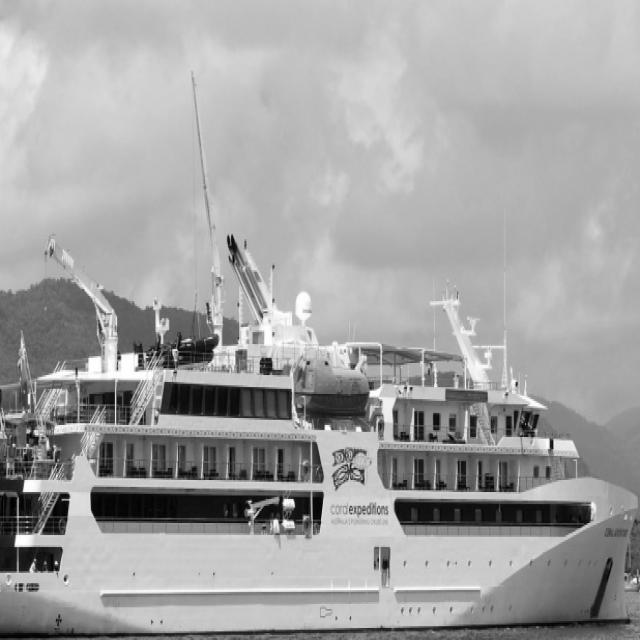cruises: (1, 231, 640, 640)
